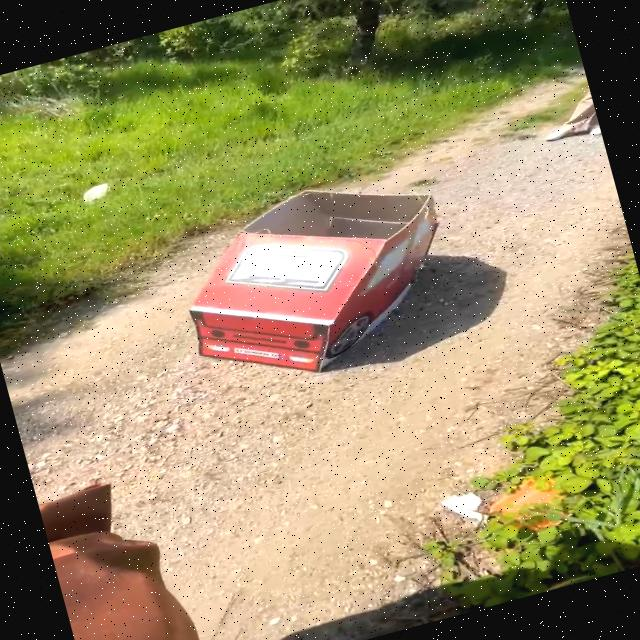red_car: (142, 145, 490, 426)
